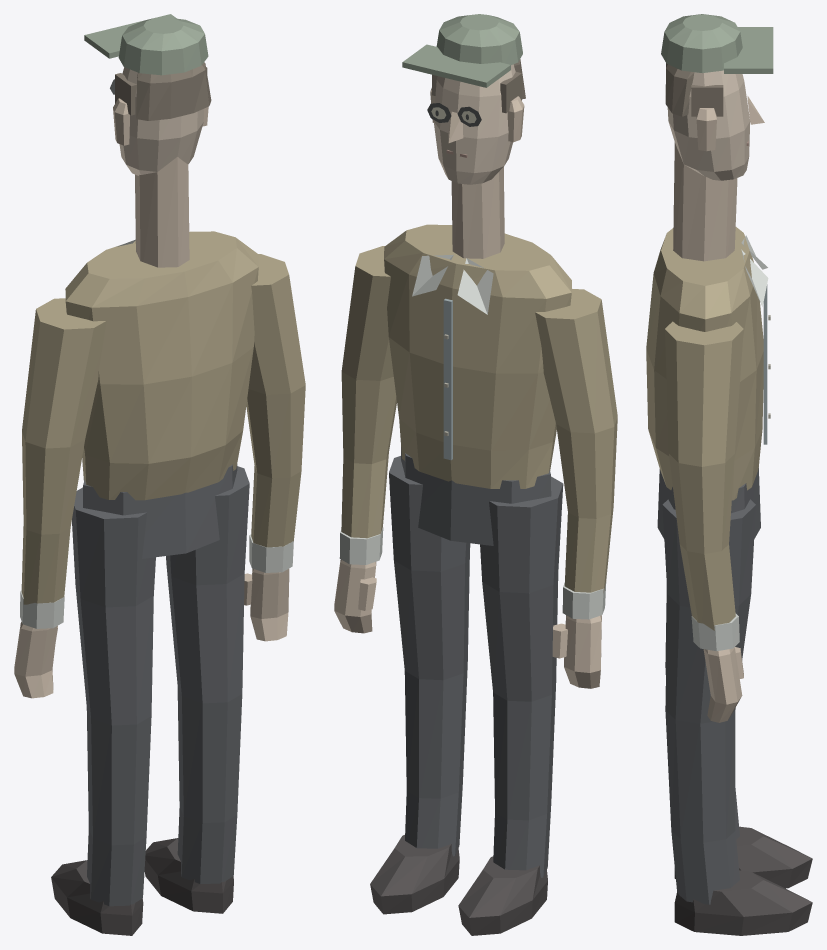
The model's file is 03_long_neck_worker.gltf.
3 views of the same model, side by side, from view 1: azimuth 30°, elevation 25°; view 2: azimuth 150°, elevation 25°; view 3: azimuth 270°, elevation 25° (orthographic). The views are drawn at different scales.
Visible parts, largest first — view 1: shirt_torso_5, L_trouser_0, R_trouser_2, left_sleeve_6, right_sleeve_10, pelvis_4, neck_14, work_cap_35, head_15, leather_shoe_1, leather_shoe_3, hair_back_24 (+7 smaller); view 2: shirt_torso_5, L_trouser_0, R_trouser_2, left_sleeve_6, right_sleeve_10, head_15, pelvis_4, leather_shoe_3, leather_shoe_1, neck_14, work_cap_35, hand_8 (+9 smaller); view 3: R_trouser_2, right_sleeve_10, shirt_torso_5, leather_shoe_3, neck_14, head_15, work_cap_35, leather_shoe_1, hand_12, cap_brim_36, pelvis_4, cuff_11 (+5 smaller).
Boxes of the visible parts, x1,y1,x2,y2 form: shirt_torso_5: (65, 231, 258, 500); L_trouser_0: (72, 487, 155, 906); R_trouser_2: (166, 466, 249, 883); left_sleeve_6: (21, 298, 106, 604); right_sleeve_10: (246, 254, 305, 547); pelvis_4: (83, 464, 237, 558); neck_14: (135, 157, 189, 267); work_cap_35: (118, 17, 208, 75); head_15: (119, 67, 203, 175); leather_shoe_1: (51, 860, 143, 935); leather_shoe_3: (144, 838, 233, 913); hair_back_24: (136, 62, 211, 120); shirt_torso_5: (384, 224, 571, 488); L_trouser_0: (480, 476, 563, 877); R_trouser_2: (389, 456, 470, 856); left_sleeve_6: (535, 289, 617, 593); right_sleeve_10: (341, 246, 396, 538); head_15: (433, 64, 515, 184); pelvis_4: (401, 447, 551, 545); leather_shoe_3: (370, 835, 459, 914); leather_shoe_1: (458, 856, 547, 935); neck_14: (451, 167, 504, 258); work_cap_35: (436, 14, 522, 64); hand_8: (564, 615, 601, 688); R_trouser_2: (662, 499, 755, 904); right_sleeve_10: (665, 321, 743, 630); shirt_torso_5: (646, 227, 763, 500); leather_shoe_3: (674, 870, 812, 935); neck_14: (673, 142, 737, 261); head_15: (667, 70, 750, 180); work_cap_35: (661, 14, 742, 73); leather_shoe_1: (674, 826, 812, 888); hand_12: (703, 647, 742, 722); cap_brim_36: (724, 27, 773, 73); pelvis_4: (657, 467, 760, 538); cuff_11: (691, 613, 739, 651).
Size of the model in its own units: 0.64 by 1.97 by 0.338.
